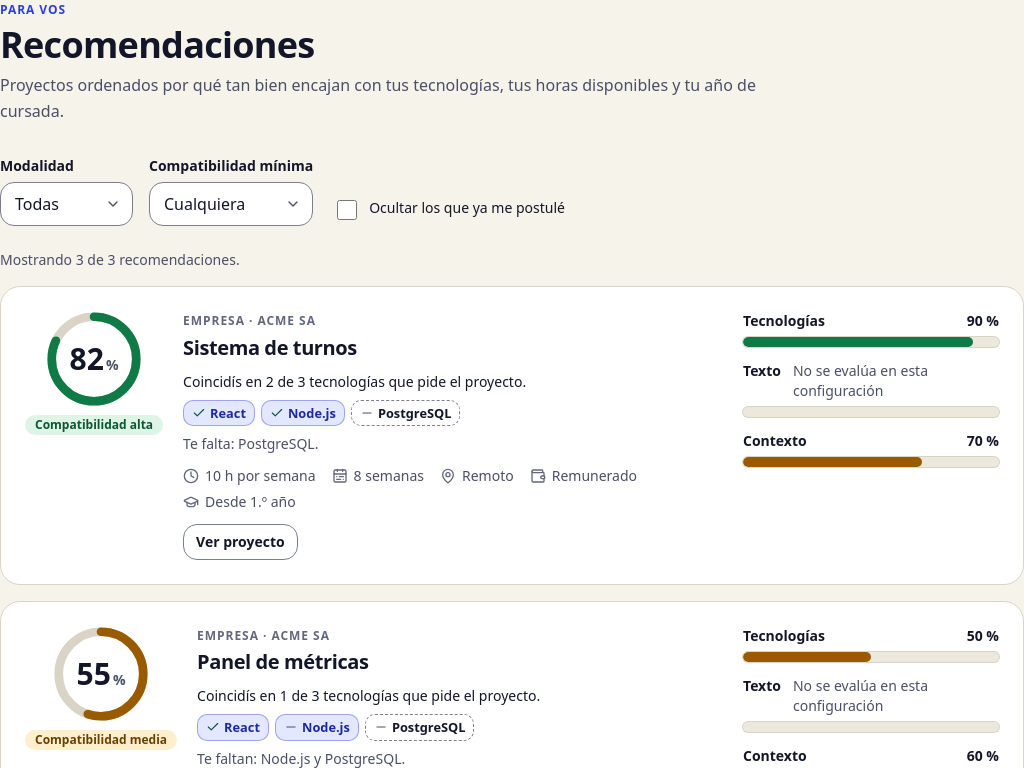
Test: RecomendacionesPage › filtros › por modalidad deja solo los proyectos de esa modalidad y avisa cuántos se muestran
expect the link "Sistema de turnos" is shown: met, box [183,334,357,361]
expect the message reads "Mostrando 3 de 3 recomendaciones.": met, box [0,250,240,269]
Select "Presencial" in the dropdown labelled "Modalidad" at (66, 204), box [0,182,133,226]
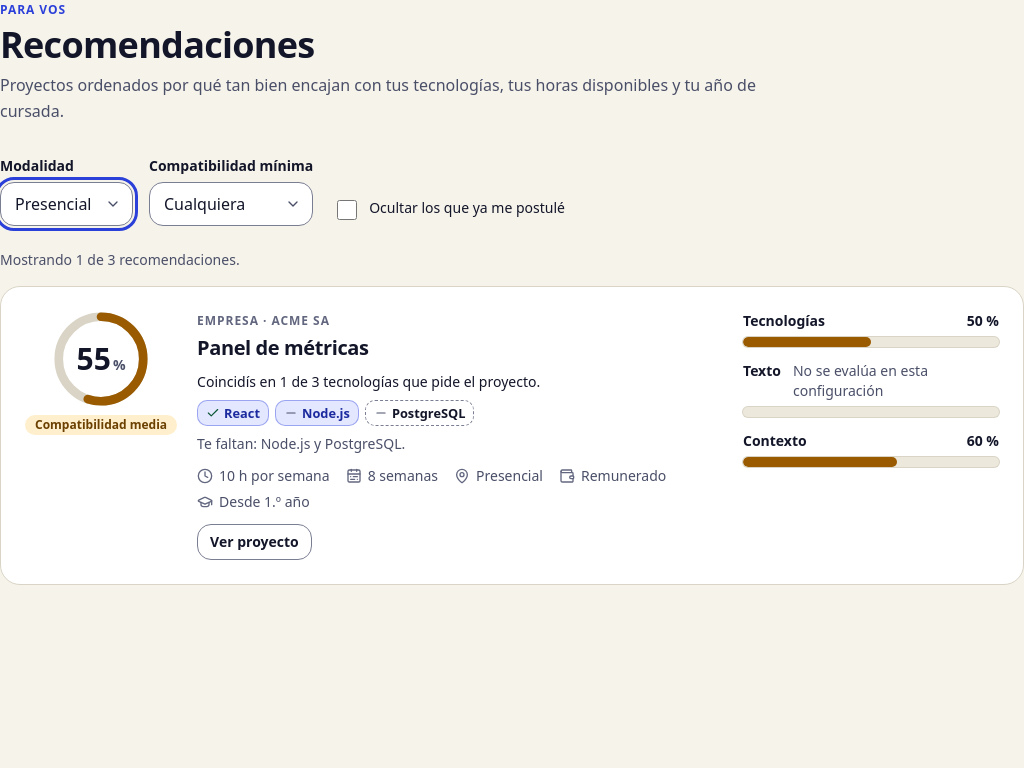
expect the message reads "Mostrando 1 de 3 recomendaciones.": met, box [0,250,240,269]
